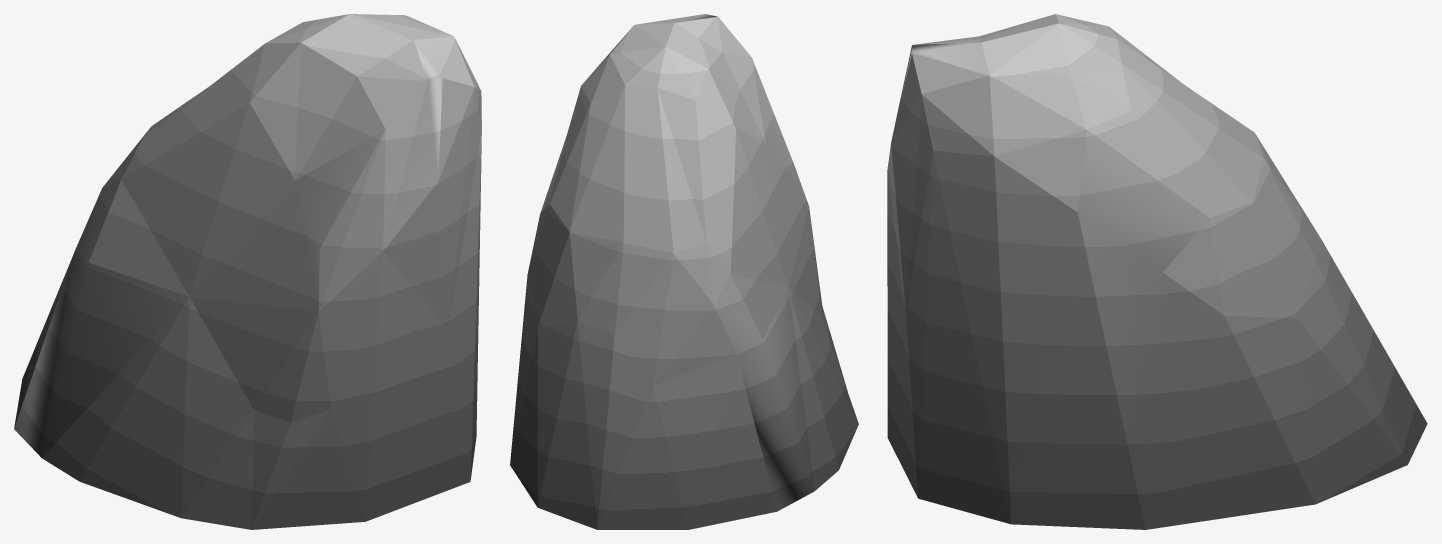
Rendered from Prefab_Rock_A.glb.
The picture shows the model from 3 angles, left to right: view 1: azimuth 30°, elevation 25°; view 2: azimuth 150°, elevation 25°; view 3: azimuth 270°, elevation 25°; orthographic projection. The views are drawn at different scales.
Visible parts, largest first — view 1: Rock_C; view 2: Rock_C; view 3: Rock_C.
Boxes of the visible parts, <box> form: Rock_C: <box>14,14,481,529</box>; Rock_C: <box>510,14,858,529</box>; Rock_C: <box>887,14,1427,529</box>.
Size of the model in its own units: 1.19 by 1.37 by 1.49.
1 material, 1 textured.
